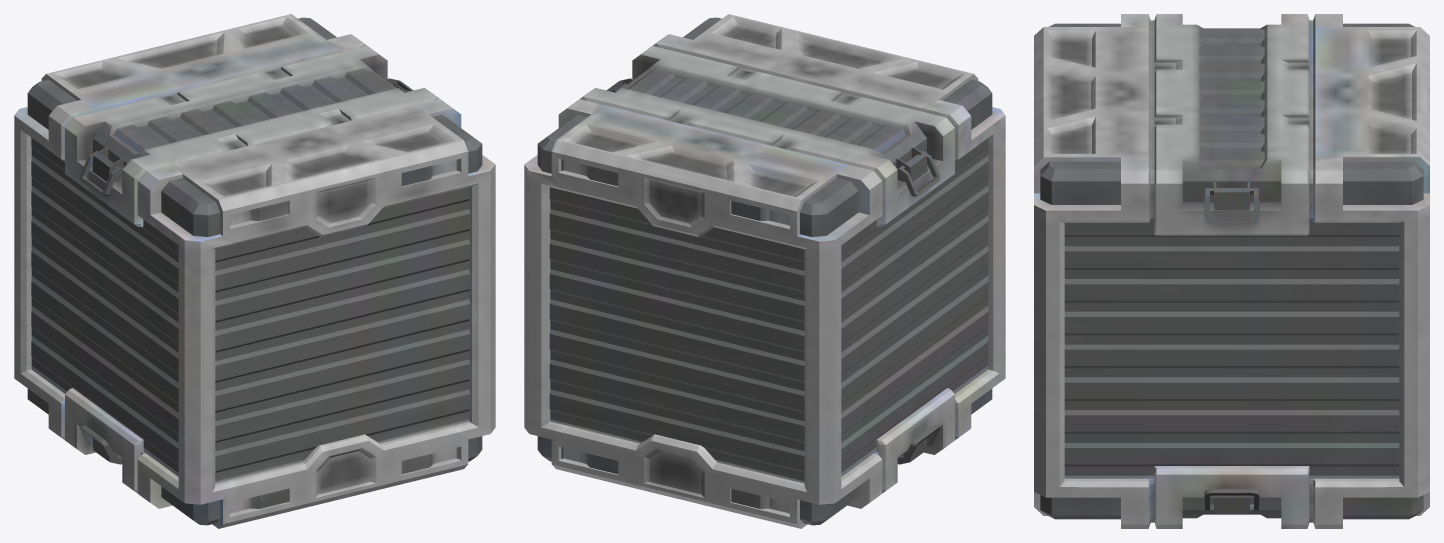
File: crate_s.glb
The picture shows the model from 3 angles, left to right: view 1: azimuth 30°, elevation 25°; view 2: azimuth 150°, elevation 25°; view 3: azimuth 270°, elevation 25°; orthographic projection. The views are drawn at different scales.
Visible parts, largest first — view 1: Prop_Crate; view 2: Prop_Crate; view 3: Prop_Crate.
Part boxes in pixels (box(x1,y1,x2,y2)): Prop_Crate: box(14, 14, 495, 528); Prop_Crate: box(524, 14, 1005, 528); Prop_Crate: box(1034, 14, 1429, 528).
Size of the model in its own units: 1.57 by 1.5 by 1.5.
1 material, 1 textured.
